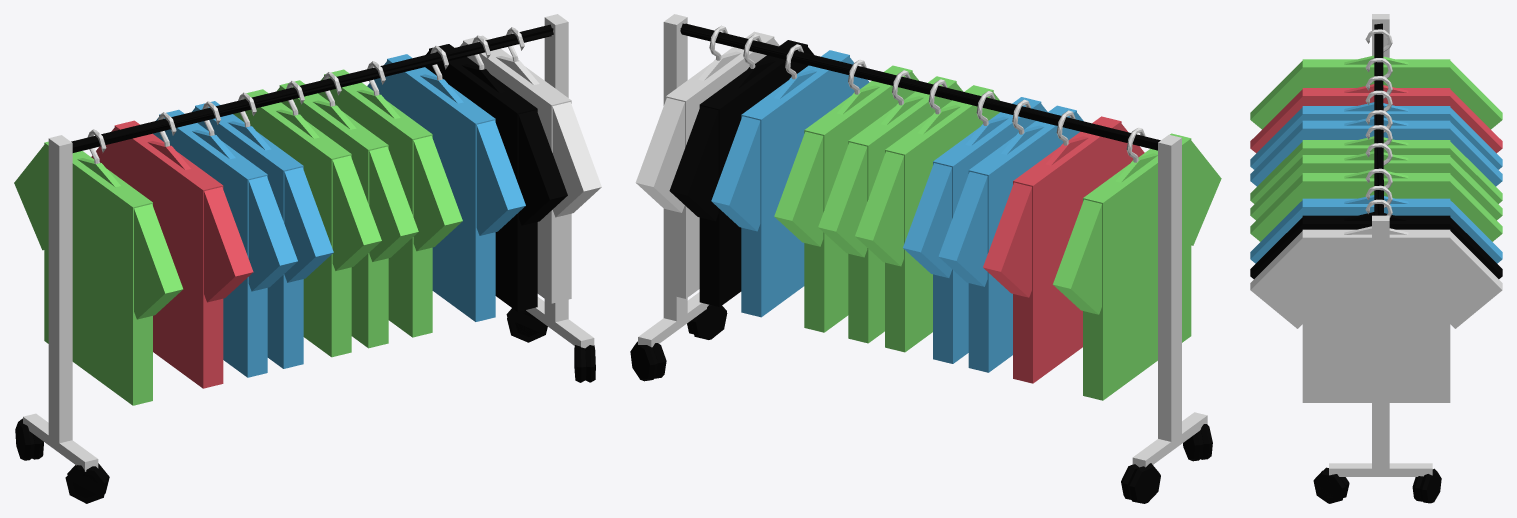
File: rack_7.fbx
3 renders of one model, left to right at view 1: azimuth 30°, elevation 25°; view 2: azimuth 150°, elevation 25°; view 3: azimuth 270°, elevation 25°, orthographic. The views are drawn at different scales.
Visible parts, largest first — view 1: Plane.013, Plane.011, Plane.007, Plane.002, Plane.010, Plane.004, Plane.008, Plane.003, Plane.006, Plane.009, Stand.R, Bar (+5 smaller); view 2: Plane.013, Plane.011, Plane.007, Plane.002, Plane.010, Plane.004, Plane.008, Plane.003, Plane.006, Plane.009, Stand.R, Bar (+5 smaller); view 3: Plane.009, Plane.013, Plane.004, Stand.L, Plane.006, Plane.003, Plane.011, Plane.007, Plane.002, Plane.010, Plane.008, Bar (+3 smaller).
Boxes of the visible parts, x1,y1,x2,y2 form: Plane.013: (14, 141, 183, 405); Plane.011: (91, 120, 253, 388); Plane.007: (367, 54, 525, 321); Plane.002: (233, 89, 381, 357); Plane.010: (153, 109, 297, 377); Plane.004: (318, 69, 462, 337); Plane.008: (425, 44, 567, 311); Plane.003: (277, 80, 418, 348); Plane.006: (192, 101, 333, 368); Plane.009: (460, 35, 601, 303); Stand.R: (23, 135, 98, 471); Bar: (71, 24, 553, 152); Plane.013: (1053, 133, 1221, 400); Plane.011: (983, 116, 1144, 383); Plane.007: (711, 50, 869, 317); Plane.002: (855, 85, 999, 352); Plane.010: (938, 105, 1083, 372); Plane.004: (774, 65, 918, 332); Plane.008: (669, 40, 813, 306); Plane.003: (818, 76, 962, 343); Plane.006: (903, 97, 1047, 363); Plane.009: (635, 31, 779, 298); Stand.R: (1132, 134, 1207, 467); Bar: (680, 23, 1160, 150); Plane.009: (1250, 226, 1502, 402); Plane.013: (1250, 55, 1502, 129); Plane.004: (1250, 169, 1502, 241); Stand.L: (1329, 215, 1432, 476); Plane.006: (1250, 117, 1502, 186); Plane.003: (1250, 151, 1502, 220); Plane.011: (1250, 84, 1502, 153); Plane.007: (1250, 195, 1502, 263); Plane.002: (1250, 136, 1502, 203); Plane.010: (1250, 102, 1502, 169); Plane.008: (1250, 212, 1502, 278); Bar: (1374, 23, 1383, 215).
Bounding box in the file's own units: 561 × 346 × 276.
